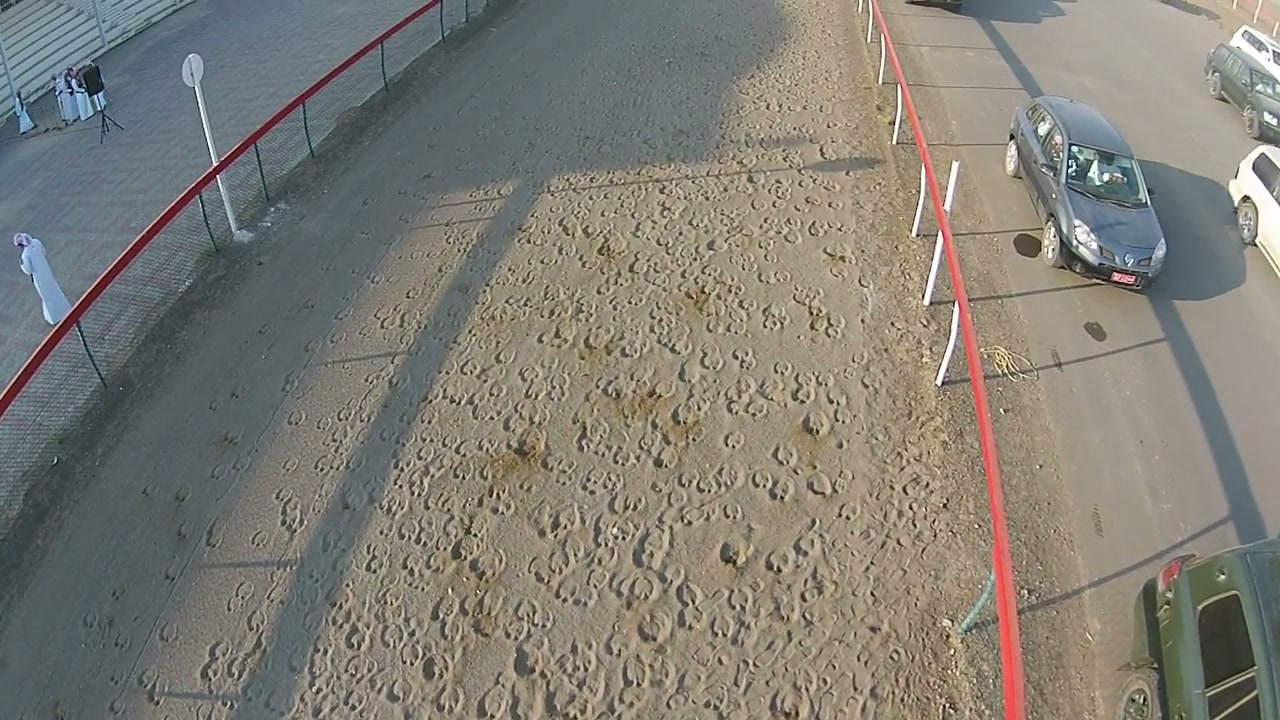animal_footprint: (148, 0, 959, 719)
